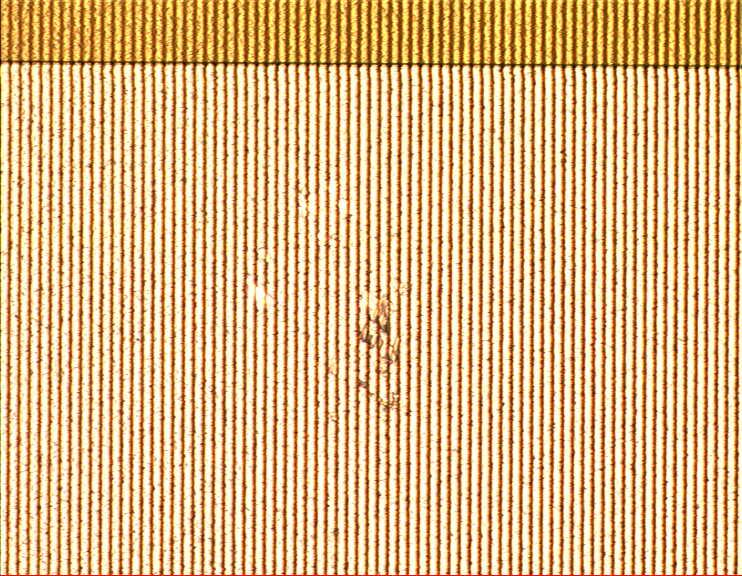SCRATCH: (326, 282, 414, 419)
